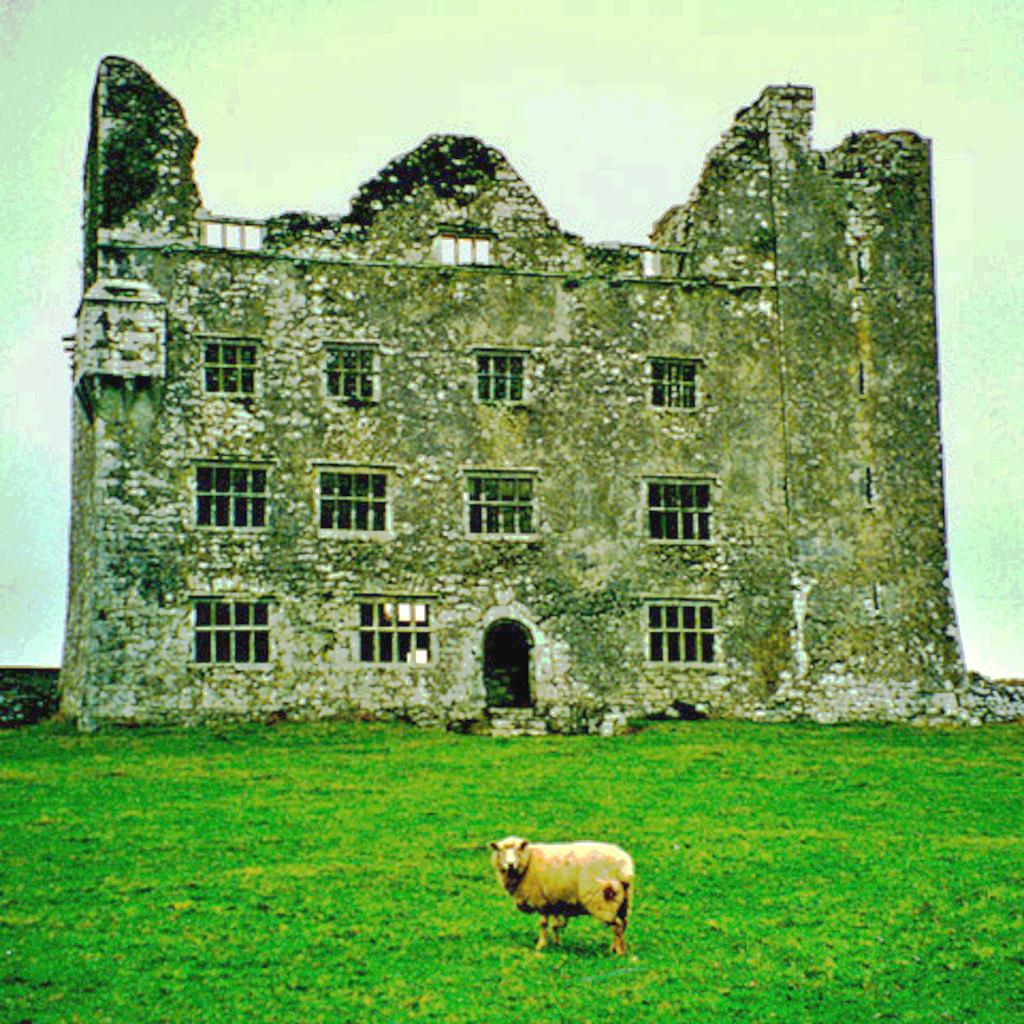Sheep: (495, 830, 634, 962)
